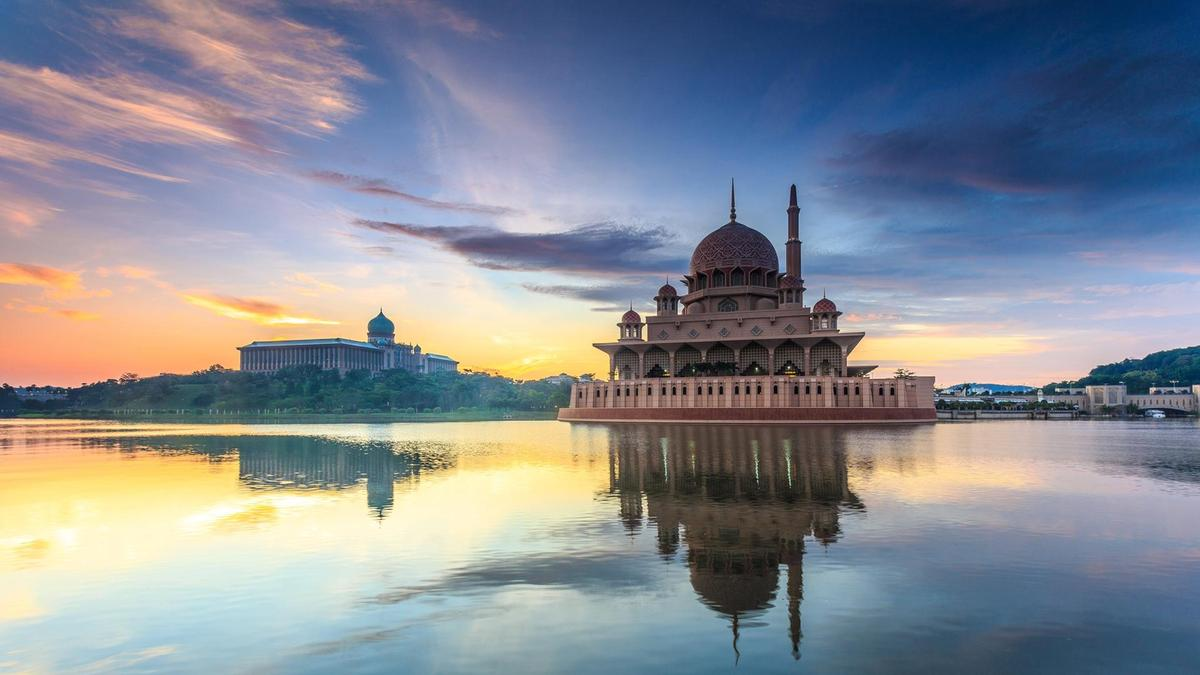Mosque: (563, 177, 906, 422)
